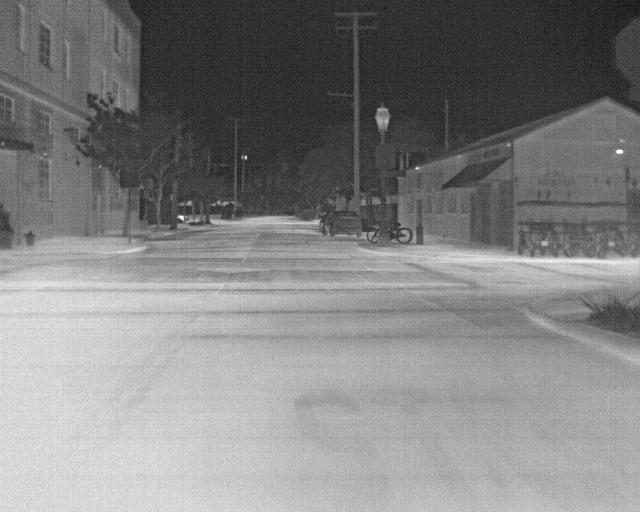bicycle: (514, 227, 532, 255), (592, 235, 609, 259), (394, 225, 414, 245), (533, 230, 548, 256), (625, 232, 639, 258), (560, 236, 576, 258), (546, 236, 563, 256), (580, 235, 595, 257), (365, 225, 381, 244), (612, 235, 626, 256)
car: (320, 209, 363, 238)
